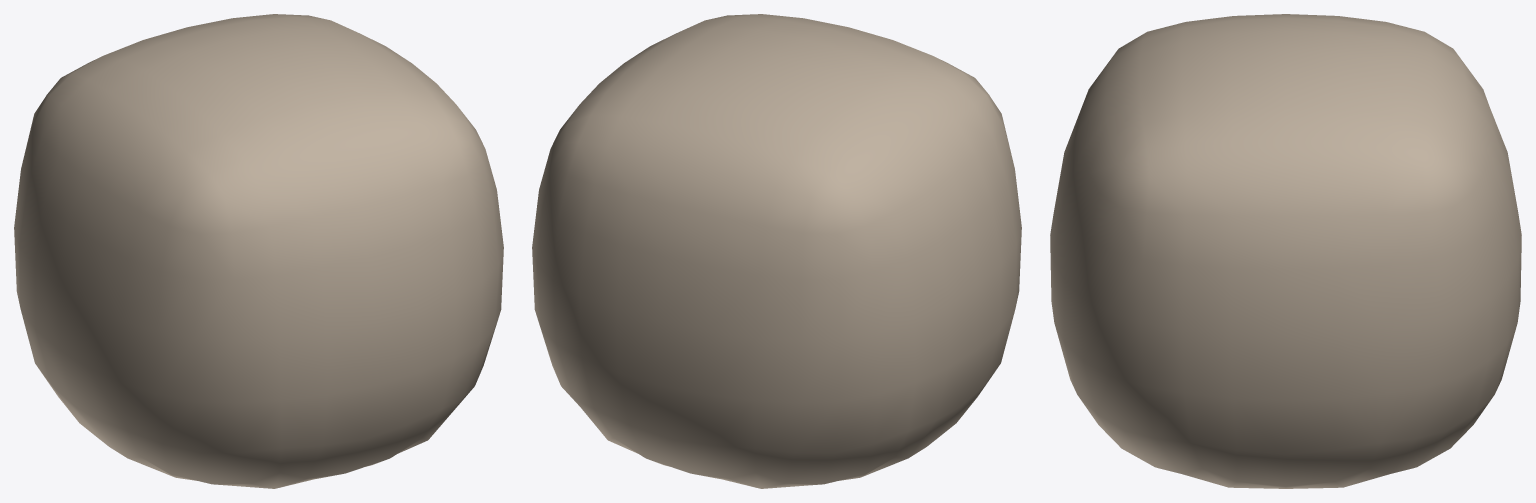
Rendered from Pouf1_12.fbx.
The picture shows the model from 3 angles, left to right: view 1: azimuth 30°, elevation 25°; view 2: azimuth 150°, elevation 25°; view 3: azimuth 270°, elevation 25°; orthographic projection.
Parts seen in each view (by area): view 1: pCube2907; view 2: pCube2907; view 3: pCube2907.
Part boxes in pixels (x1,y1,x2,y2): pCube2907: (14, 14, 503, 488); pCube2907: (532, 14, 1021, 488); pCube2907: (1050, 14, 1521, 488).
Size of the model in its own units: 33.21 by 31.87 by 33.2.
